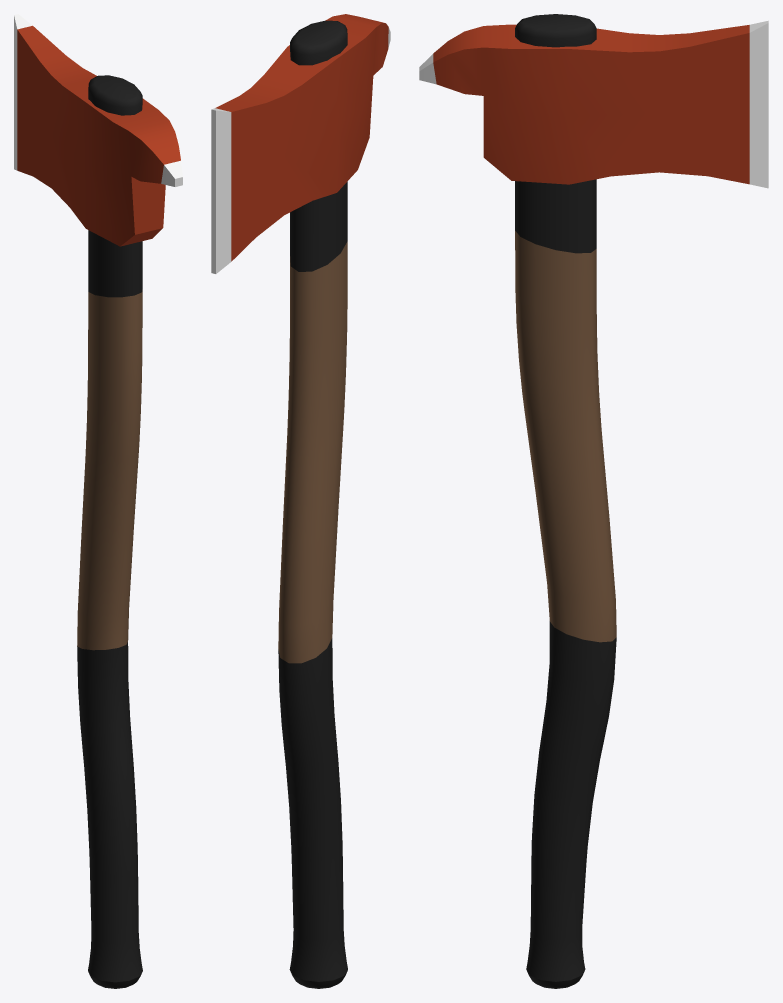
The model's file is axe.fbx.
The picture shows the model from 3 angles, left to right: view 1: azimuth 30°, elevation 25°; view 2: azimuth 150°, elevation 25°; view 3: azimuth 270°, elevation 25°; orthographic projection. The views are drawn at different scales.
Visible parts, largest first — view 1: Cube.001; view 2: Cube.001; view 3: Cube.001.
Boxes of the visible parts, box(x1,y1,x2,y2) form: Cube.001: box(14, 14, 182, 988); Cube.001: box(211, 14, 390, 988); Cube.001: box(419, 14, 768, 988).
Size of the model in its own units: 13.53 by 242 by 79.83.
